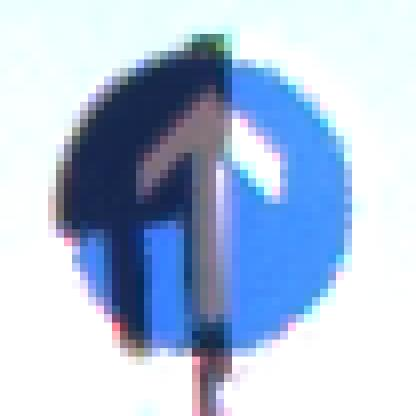AheadOnly: (41, 44, 377, 375)
